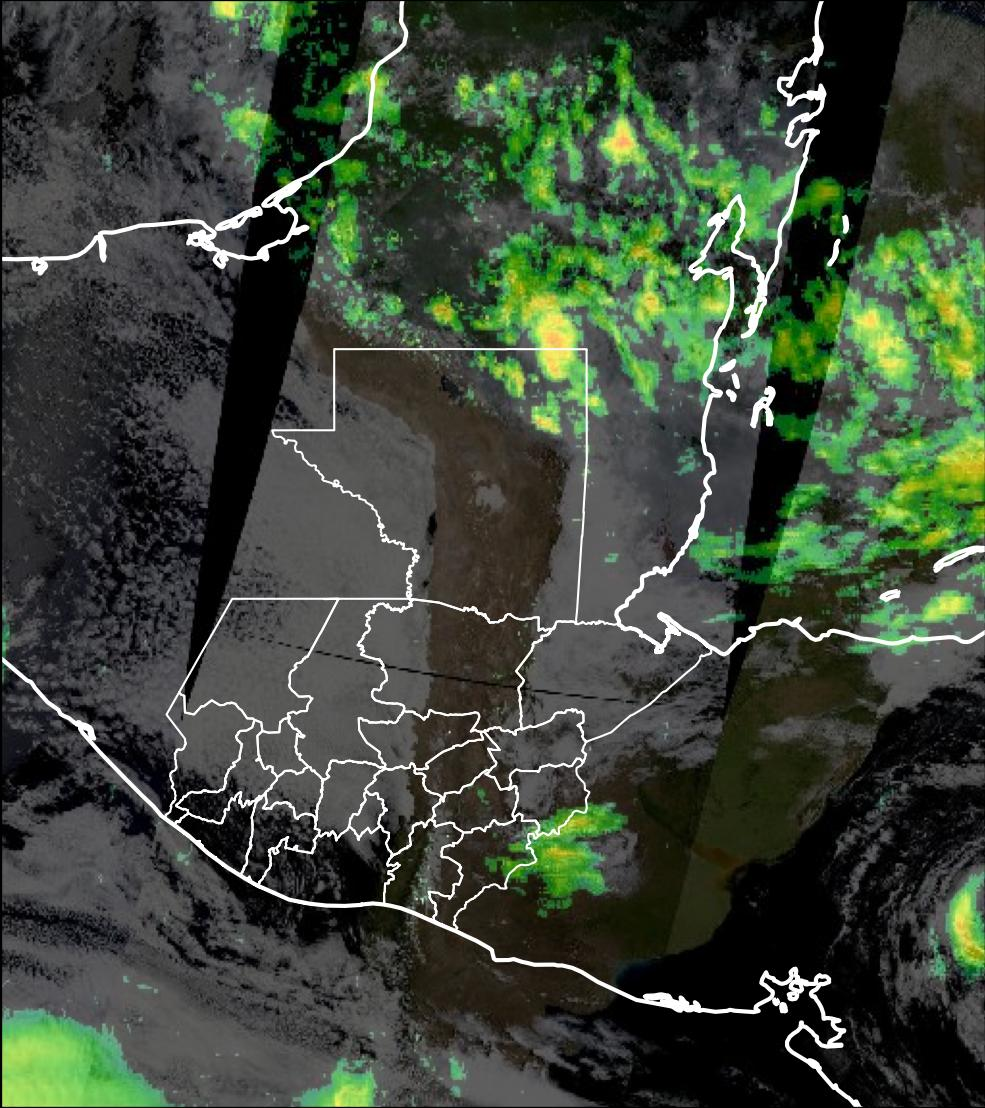precipitacion: (527, 290, 583, 392)
